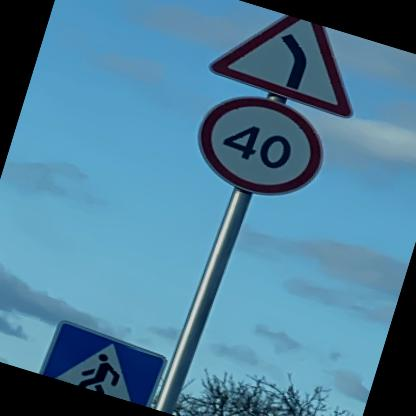crosswalk: (36, 315, 170, 408)
speedlimit: (182, 79, 333, 207)
